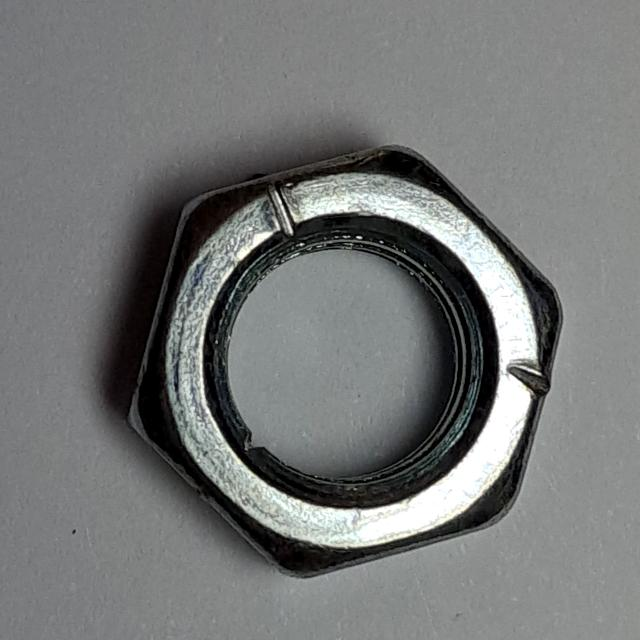Scratches: (117, 134, 573, 593)
